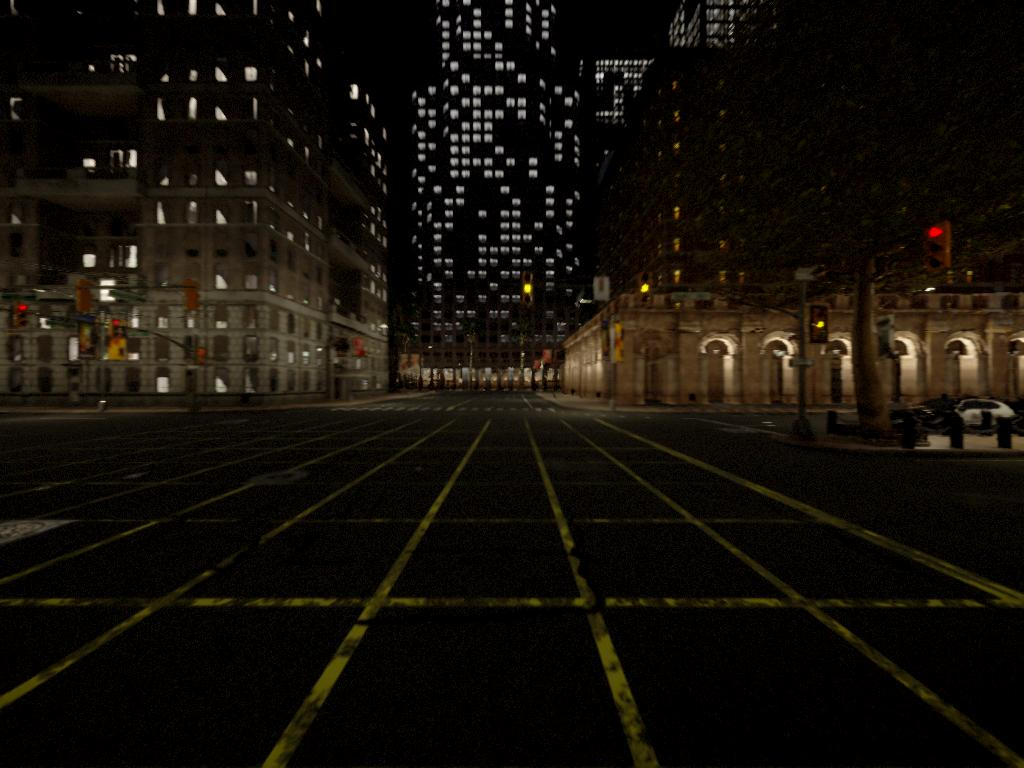traffic_light: (924, 225, 954, 273), (812, 307, 831, 345), (78, 280, 98, 313), (522, 272, 536, 307), (186, 282, 201, 314), (638, 274, 652, 304), (18, 307, 33, 330), (111, 318, 122, 338), (197, 349, 209, 366)
